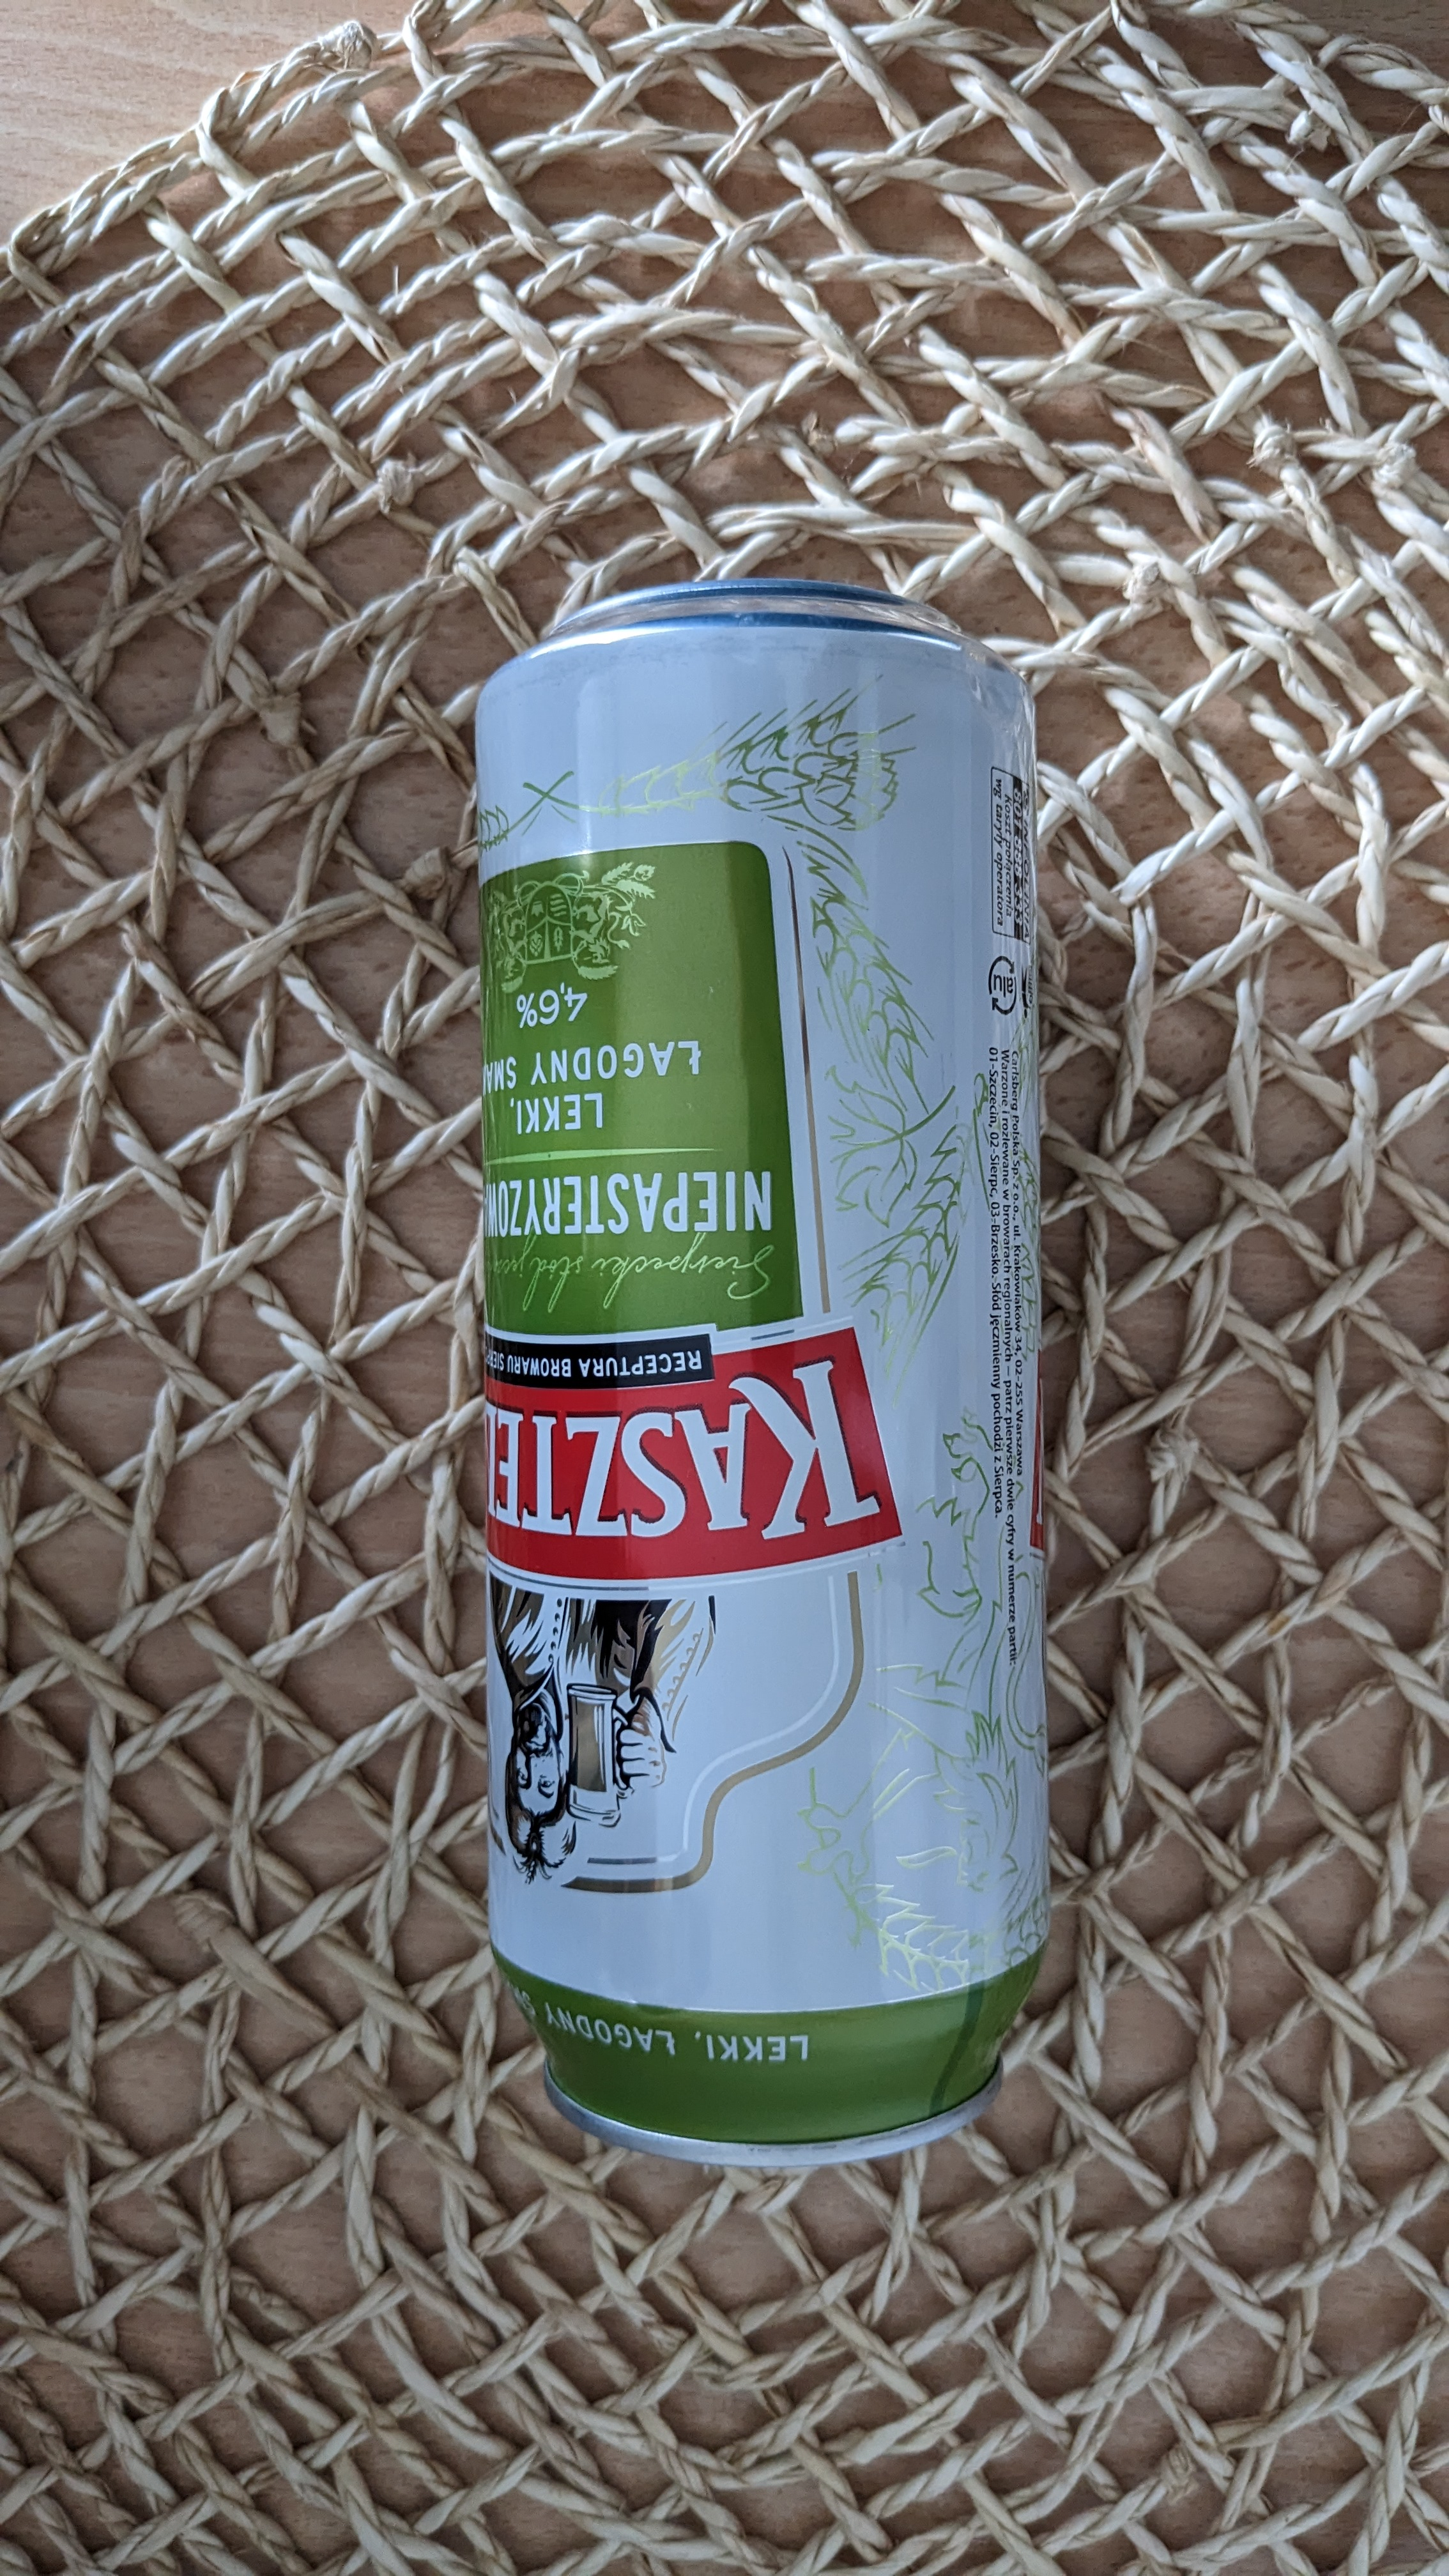kasztelan: (458, 593, 1079, 2185)
